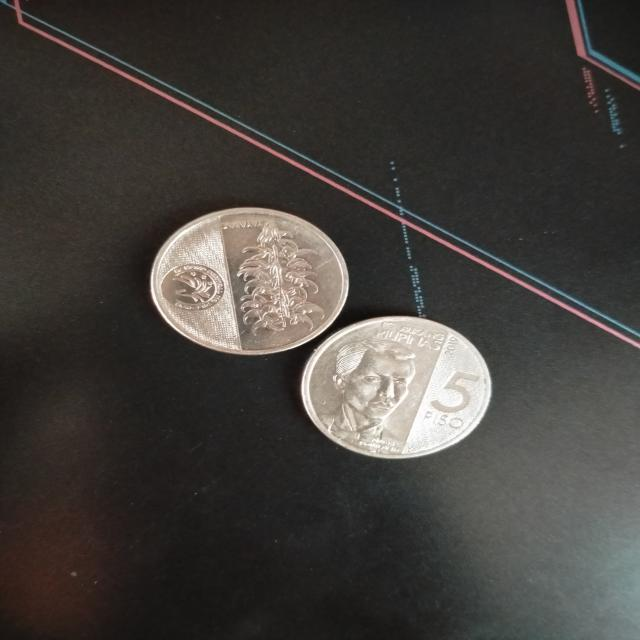5_New_Back: (237, 214, 335, 344)
5_New_Front: (414, 365, 483, 435)
